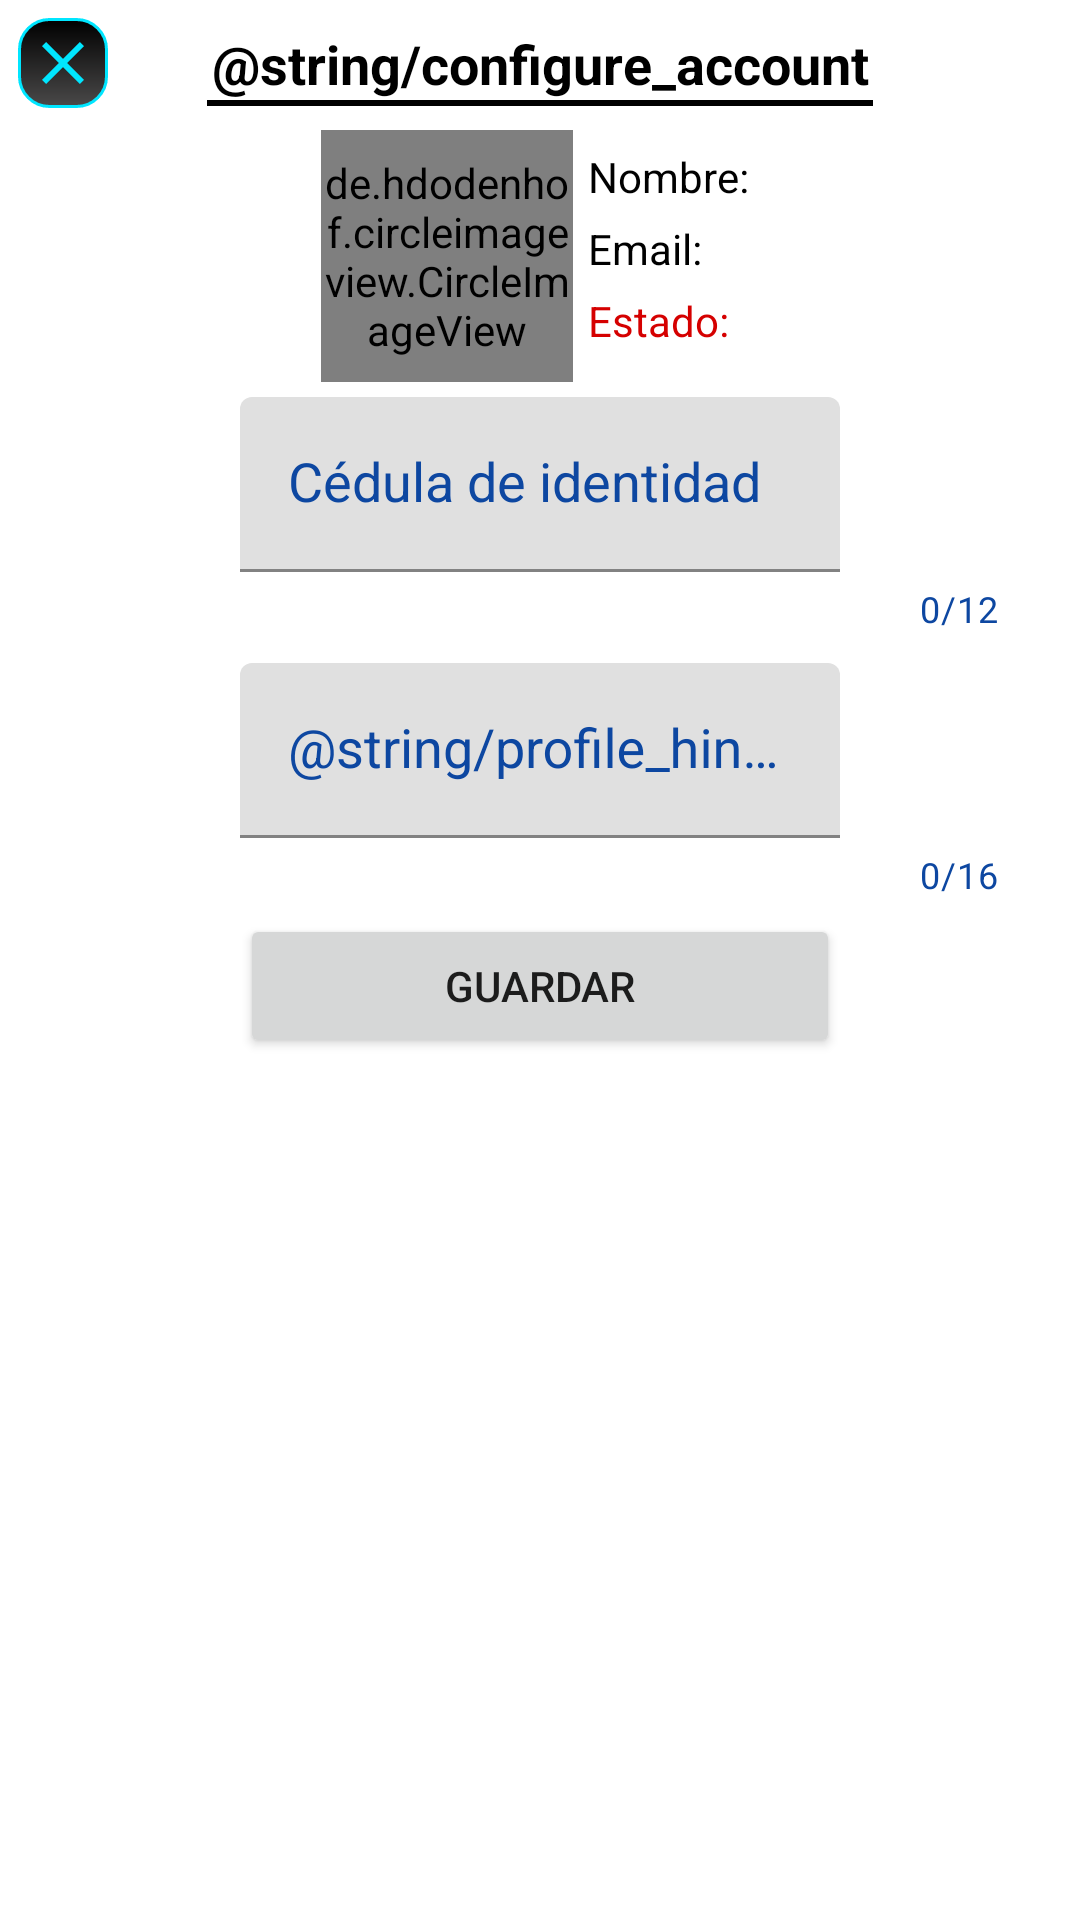

Screen size 1080w x 1920h. Icon name, then its center in pixels as point (x, y):
close: point (63, 63)
